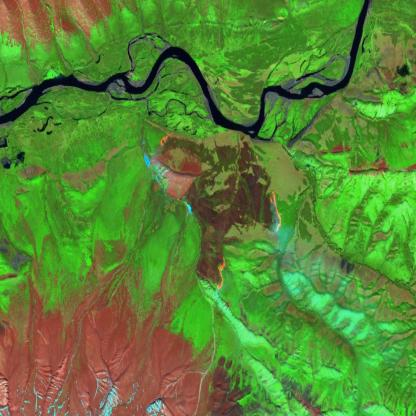fire: (266, 186, 283, 236), (213, 254, 228, 293), (156, 130, 172, 148)
